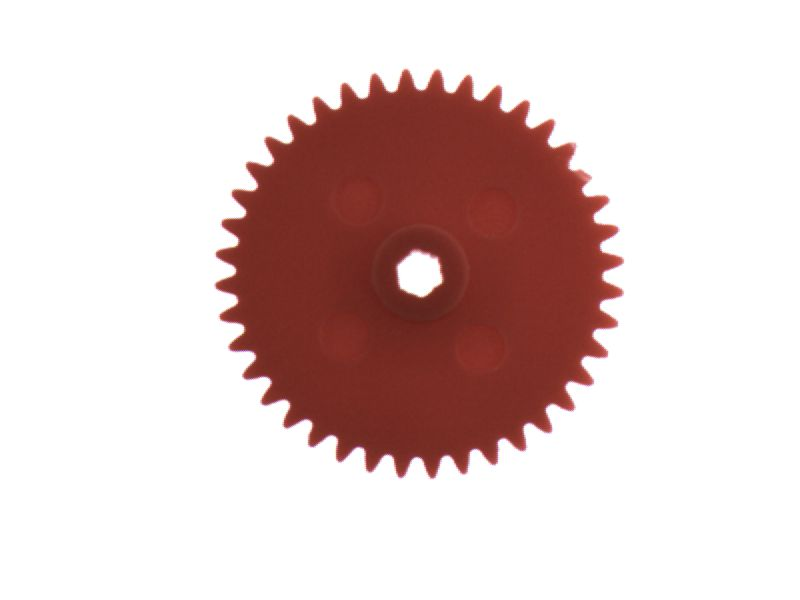defect_break: (558, 151, 611, 199)
